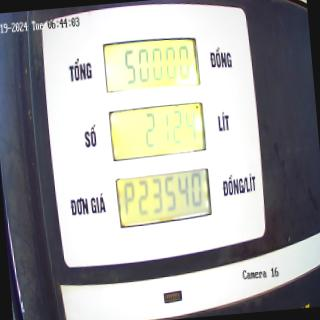screen: (101, 33, 216, 230)
